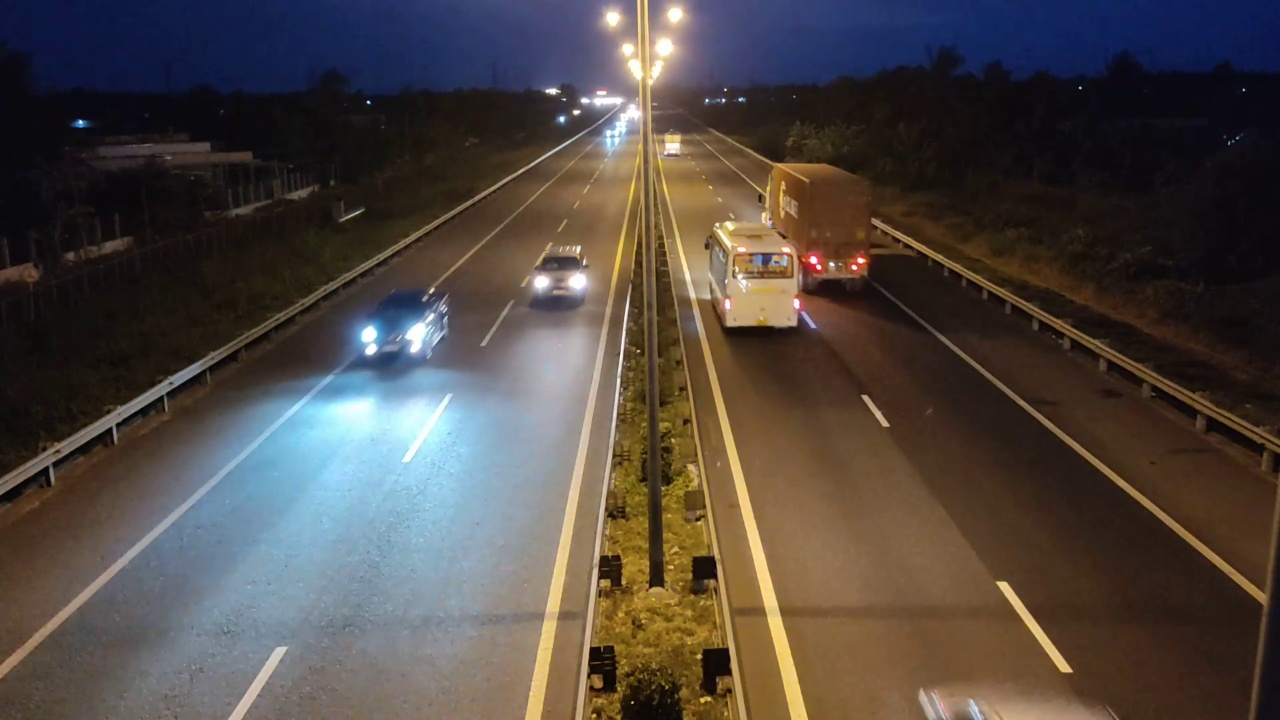bus: (704, 219, 804, 333)
car: (357, 287, 451, 368), (525, 243, 589, 310)
truck: (761, 160, 873, 293)
